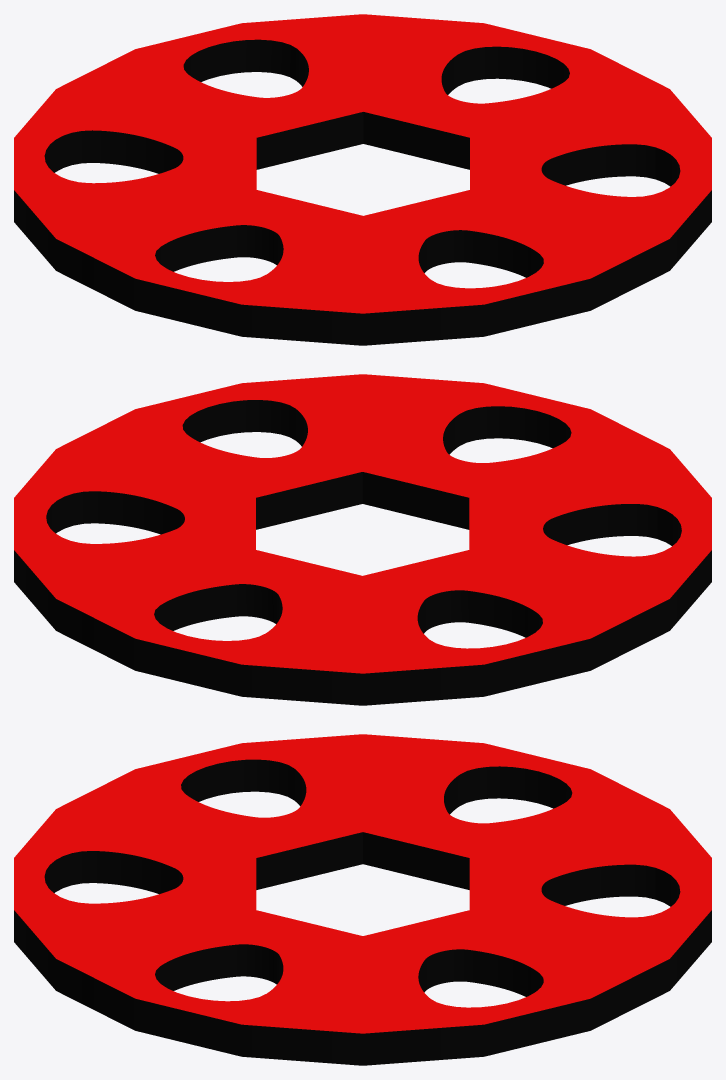
File: figure3.FBX
The picture shows the model from 3 angles, top to bottom: view 1: azimuth 30°, elevation 25°; view 2: azimuth 150°, elevation 25°; view 3: azimuth 270°, elevation 25°; orthographic projection.
Visible parts, largest first — view 1: Cylinder001; view 2: Cylinder001; view 3: Cylinder001.
Boxes of the visible parts, x1=… form: Cylinder001: x1=14, y1=14, x2=711, y2=345; Cylinder001: x1=14, y1=374, x2=711, y2=705; Cylinder001: x1=14, y1=734, x2=711, y2=1065.
Size of the model in its own units: 2 by 0.1 by 1.97.
